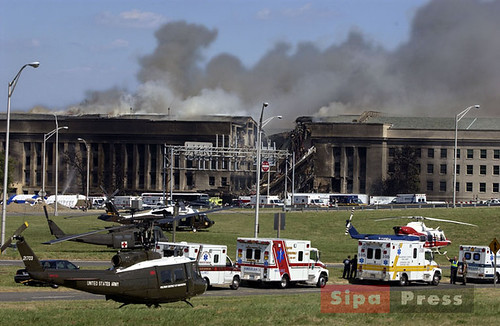ambulance: (233, 236, 327, 289), (164, 241, 240, 290), (352, 245, 446, 281), (458, 237, 500, 280)
building: (1, 110, 500, 198)
helicopter: (12, 223, 214, 316), (43, 211, 167, 256), (96, 195, 209, 235), (348, 216, 454, 253)
light pole: (1, 65, 41, 245), (241, 100, 283, 240), (447, 98, 472, 212), (37, 121, 71, 204)
sky: (1, 1, 493, 104)
